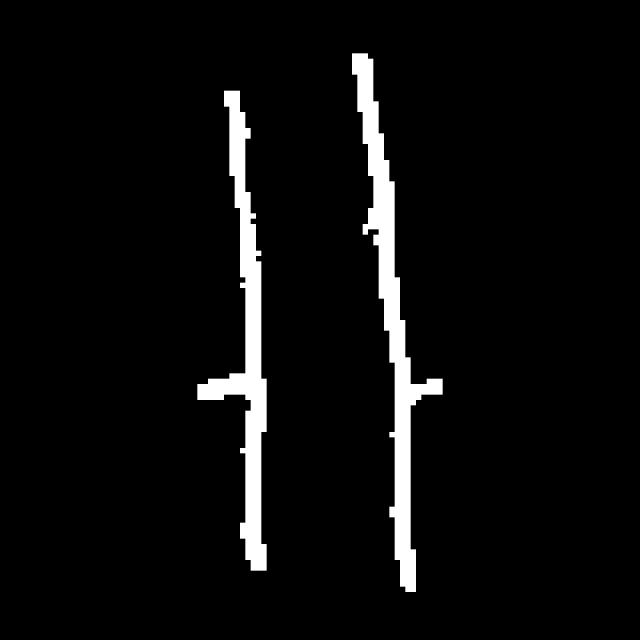capacitor: (214, 47, 423, 598)
